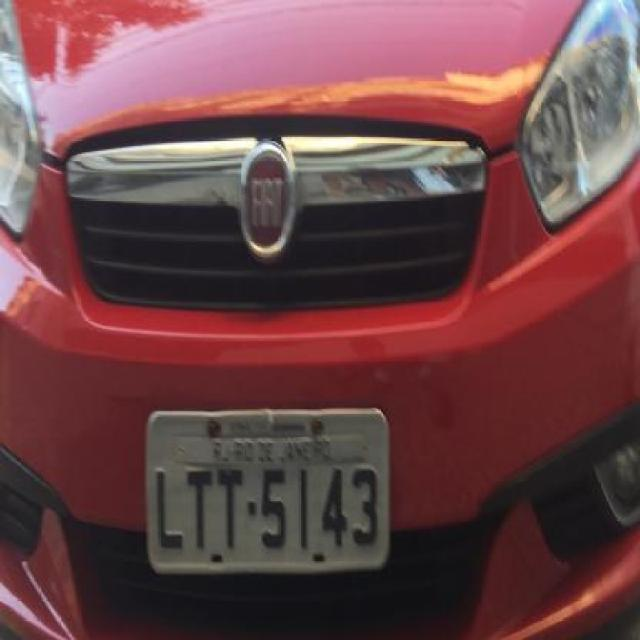old_plate: (140, 401, 395, 580)
